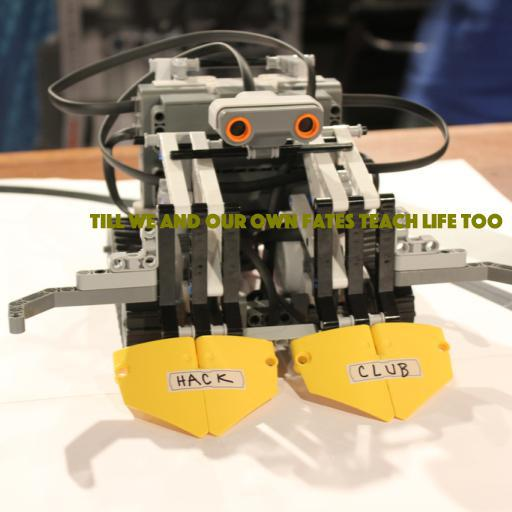Phosphate: (89, 213, 503, 229)
